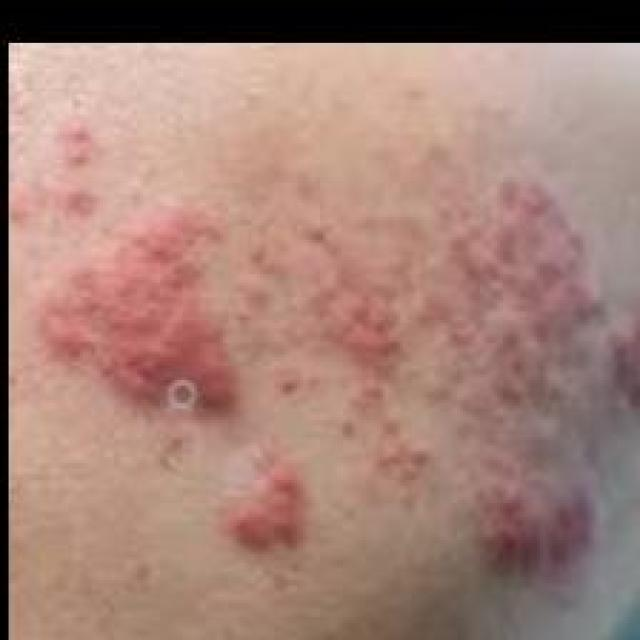others: (16, 89, 608, 612)
